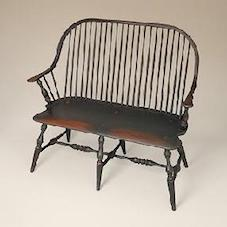chair: (21, 6, 199, 214)
